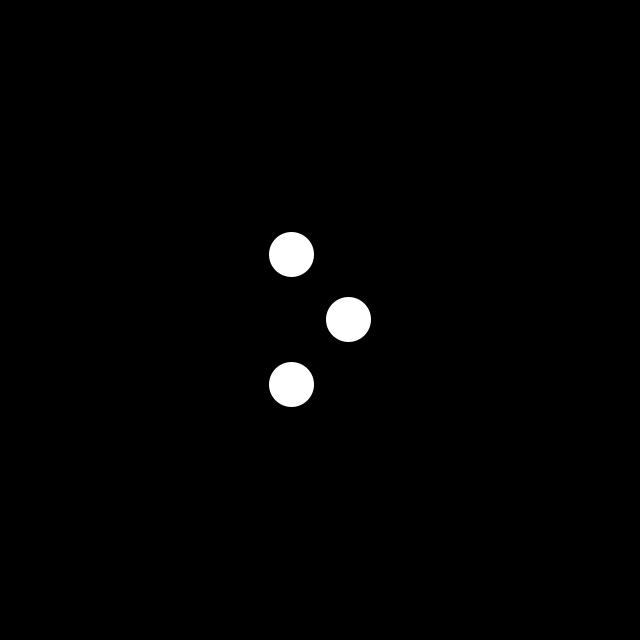O: (266, 229, 374, 411)
